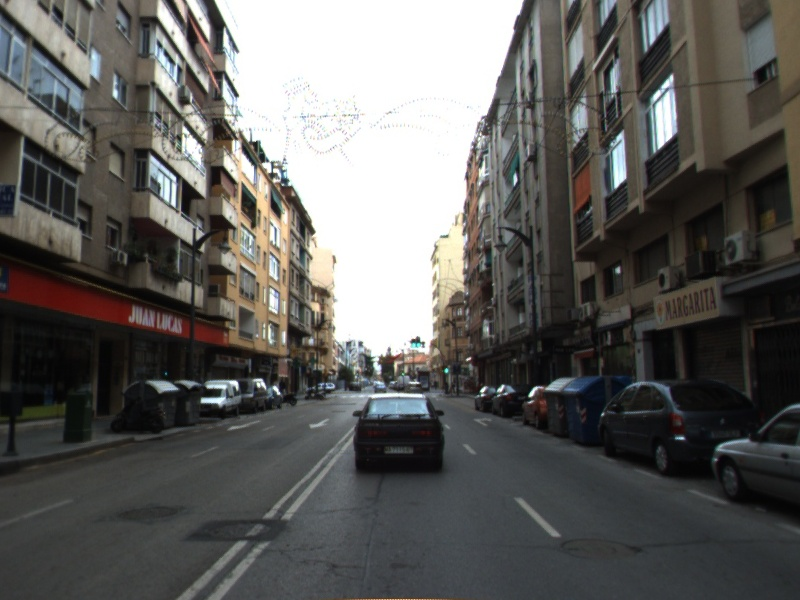RIGHT: (472, 416, 494, 428)
